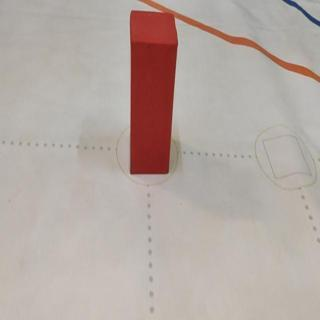redbox: (129, 8, 177, 174)
